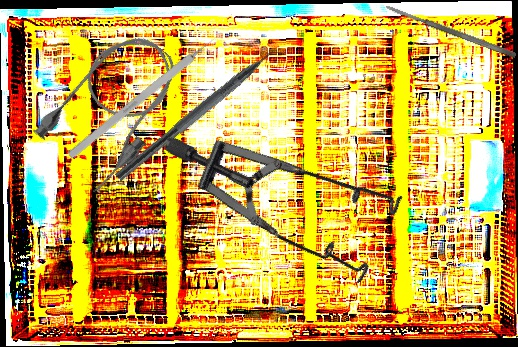Cannula: (26, 18, 200, 200)
Chopper: (114, 36, 295, 194)
Hook Surgical: (66, 29, 225, 160)
Spatula Surgical: (385, 2, 517, 60)
Speculum: (160, 48, 430, 333)
